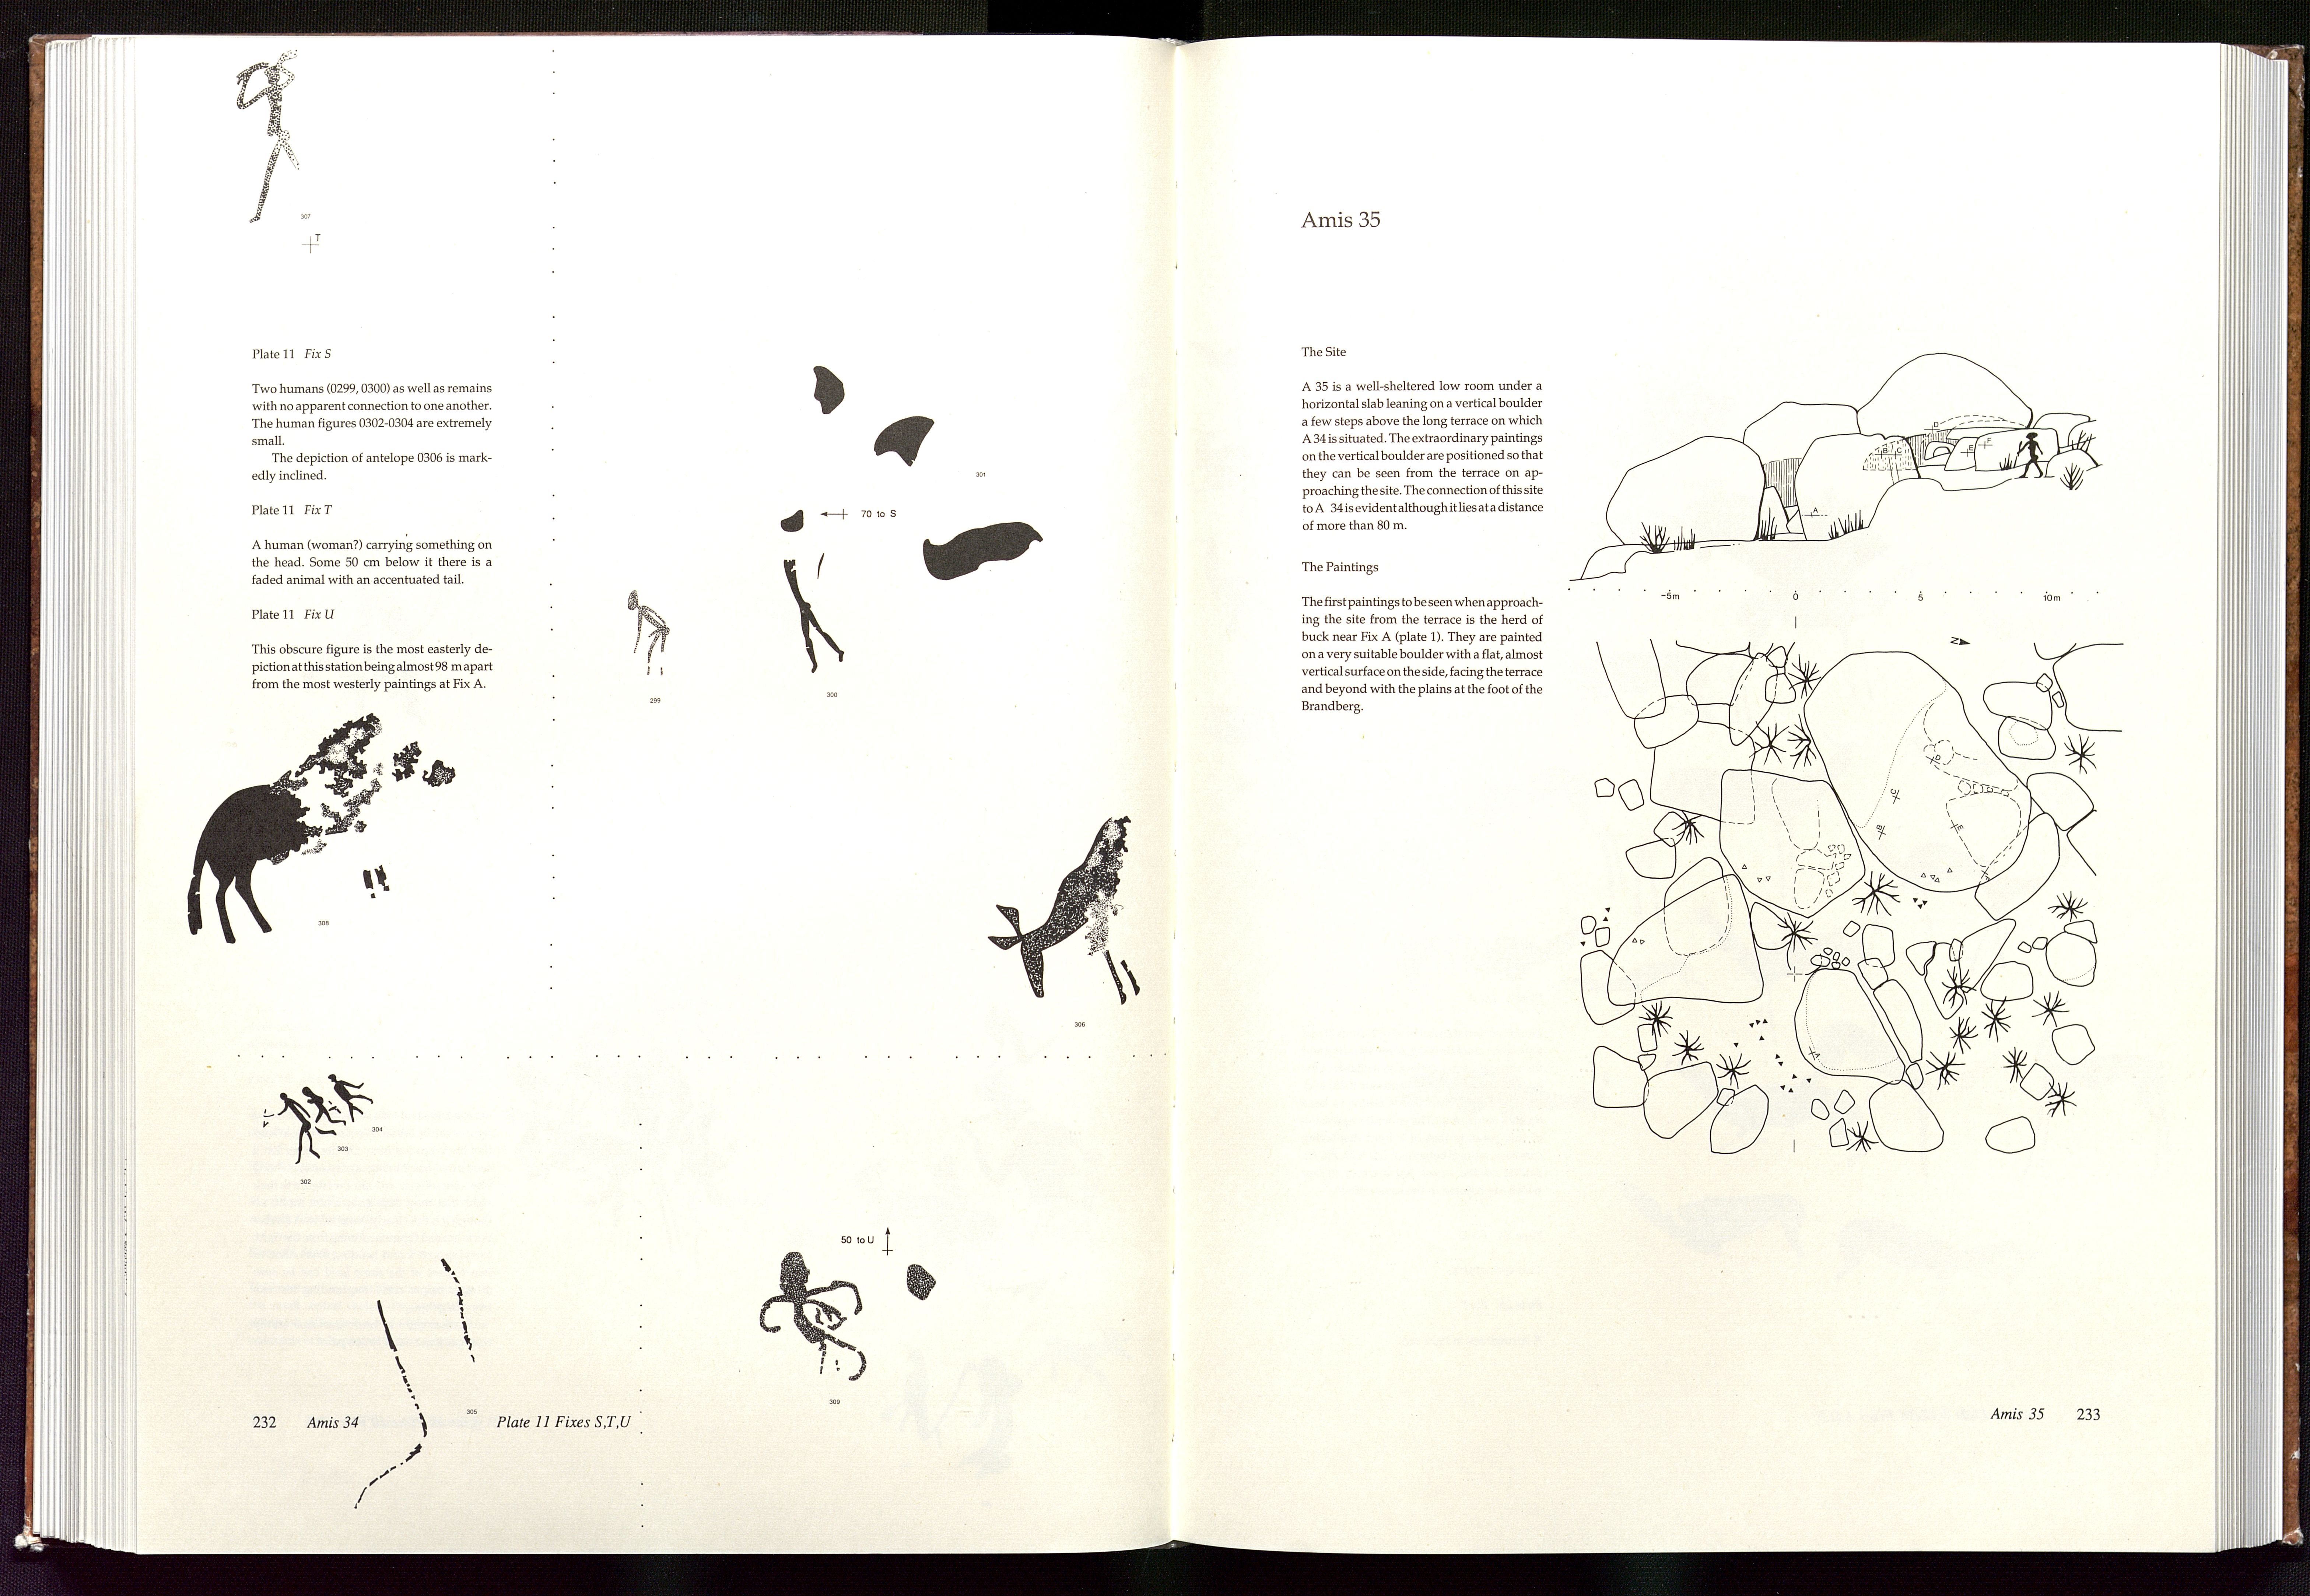animal: (176, 713, 465, 941), (988, 811, 1157, 1020)
